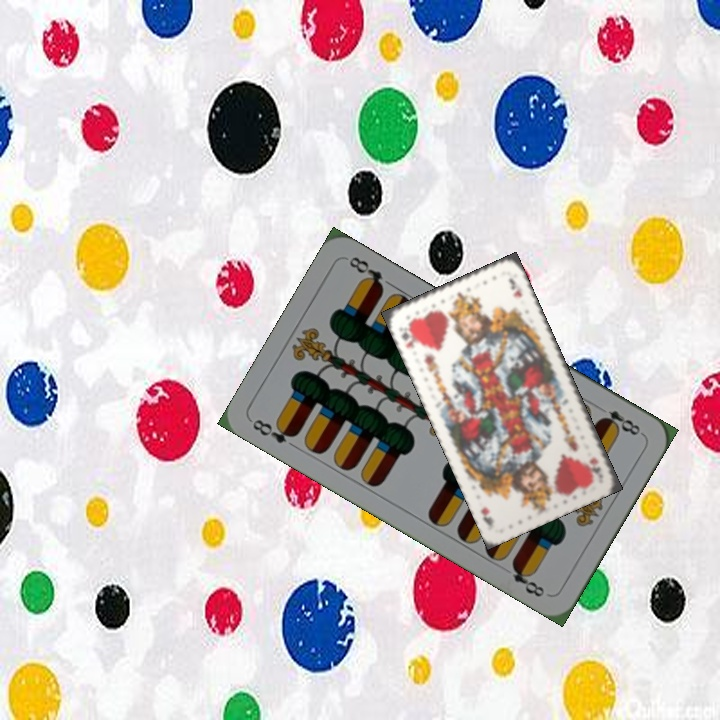E8: (248, 415, 301, 447), (595, 406, 646, 439)
HK: (397, 319, 419, 351), (585, 453, 603, 477)
